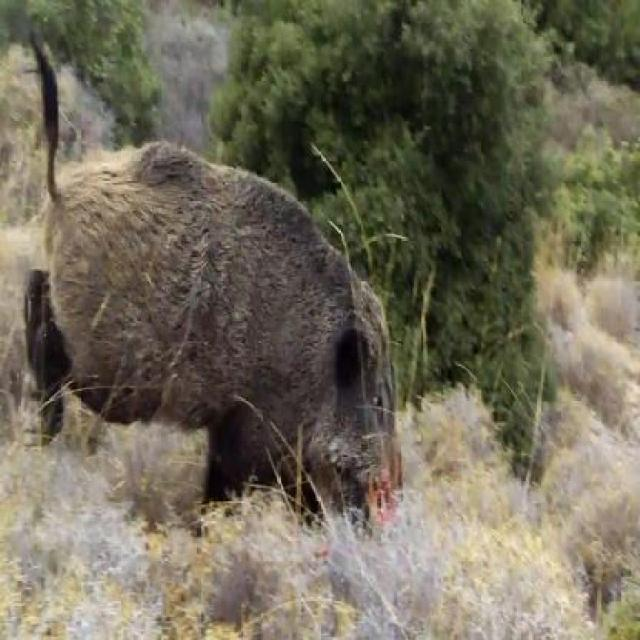wildboar: (18, 20, 410, 554)
